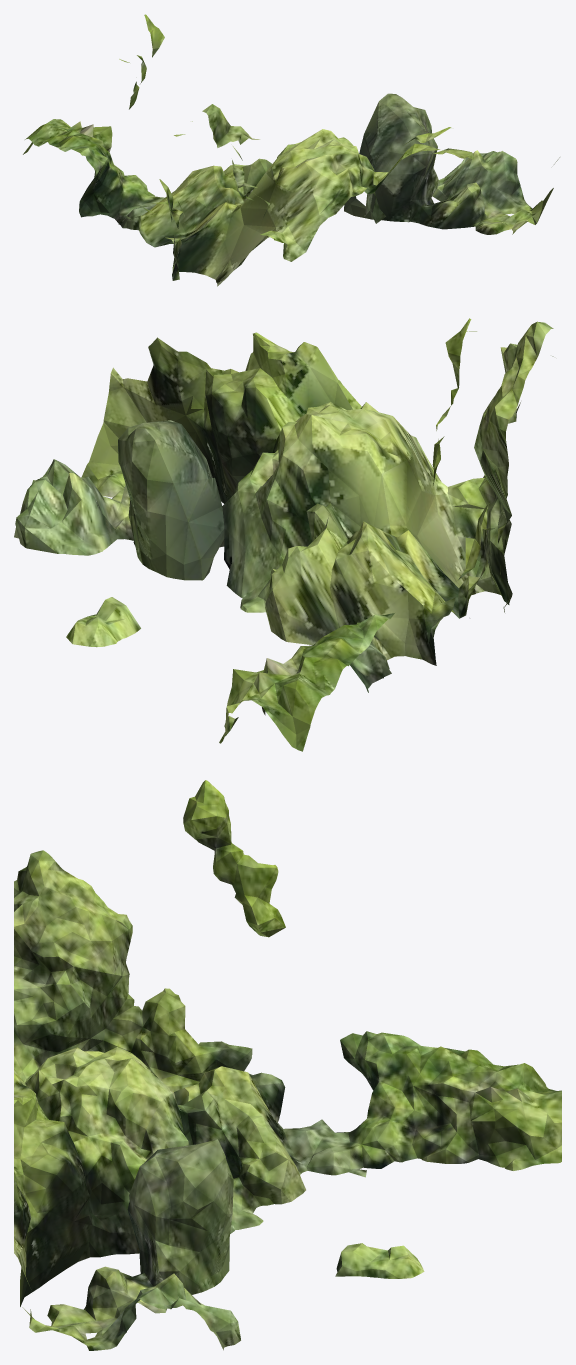
3 views of the same model, one above another, from view 1: azimuth 30°, elevation 25°; view 2: azimuth 150°, elevation 25°; view 3: azimuth 270°, elevation 25° (orthographic). The views are drawn at different scales.
Bounding box in the file's own units: 26.11 × 17.89 × 26.11.
3 materials, 3 textured.
